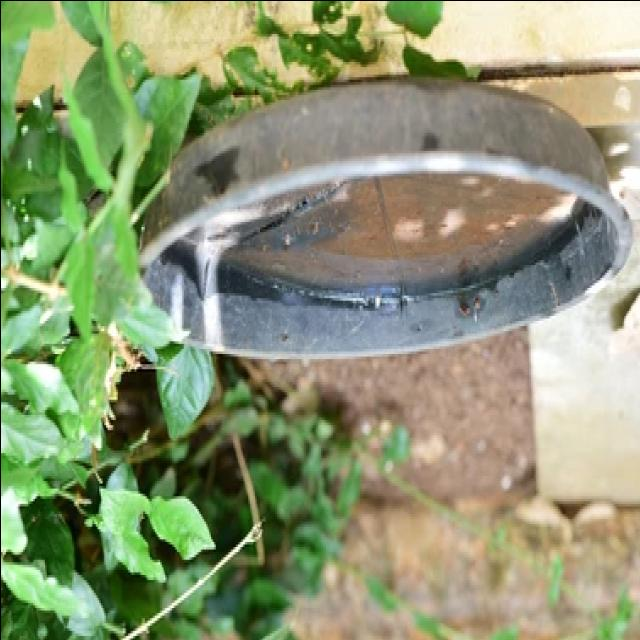Breeding Place: (123, 69, 637, 361)
